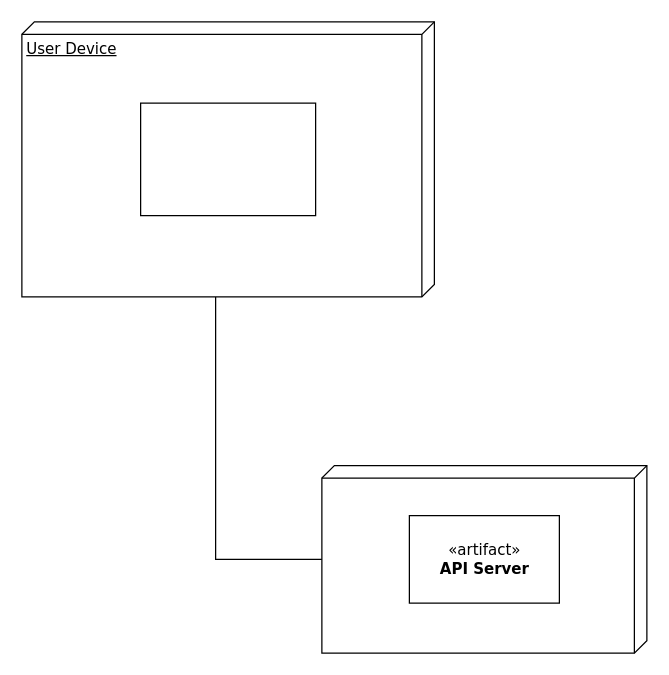
The diagram is 669 pixels wide and 675 high, and some of its shapes have lost their labels. Here are the shapes that lost their labels. From the top down, the box of each, then its label:
(139, 102, 316, 216): «artifact» Back of A Baseball Card
(321, 464, 647, 653): MLB-Stats API
